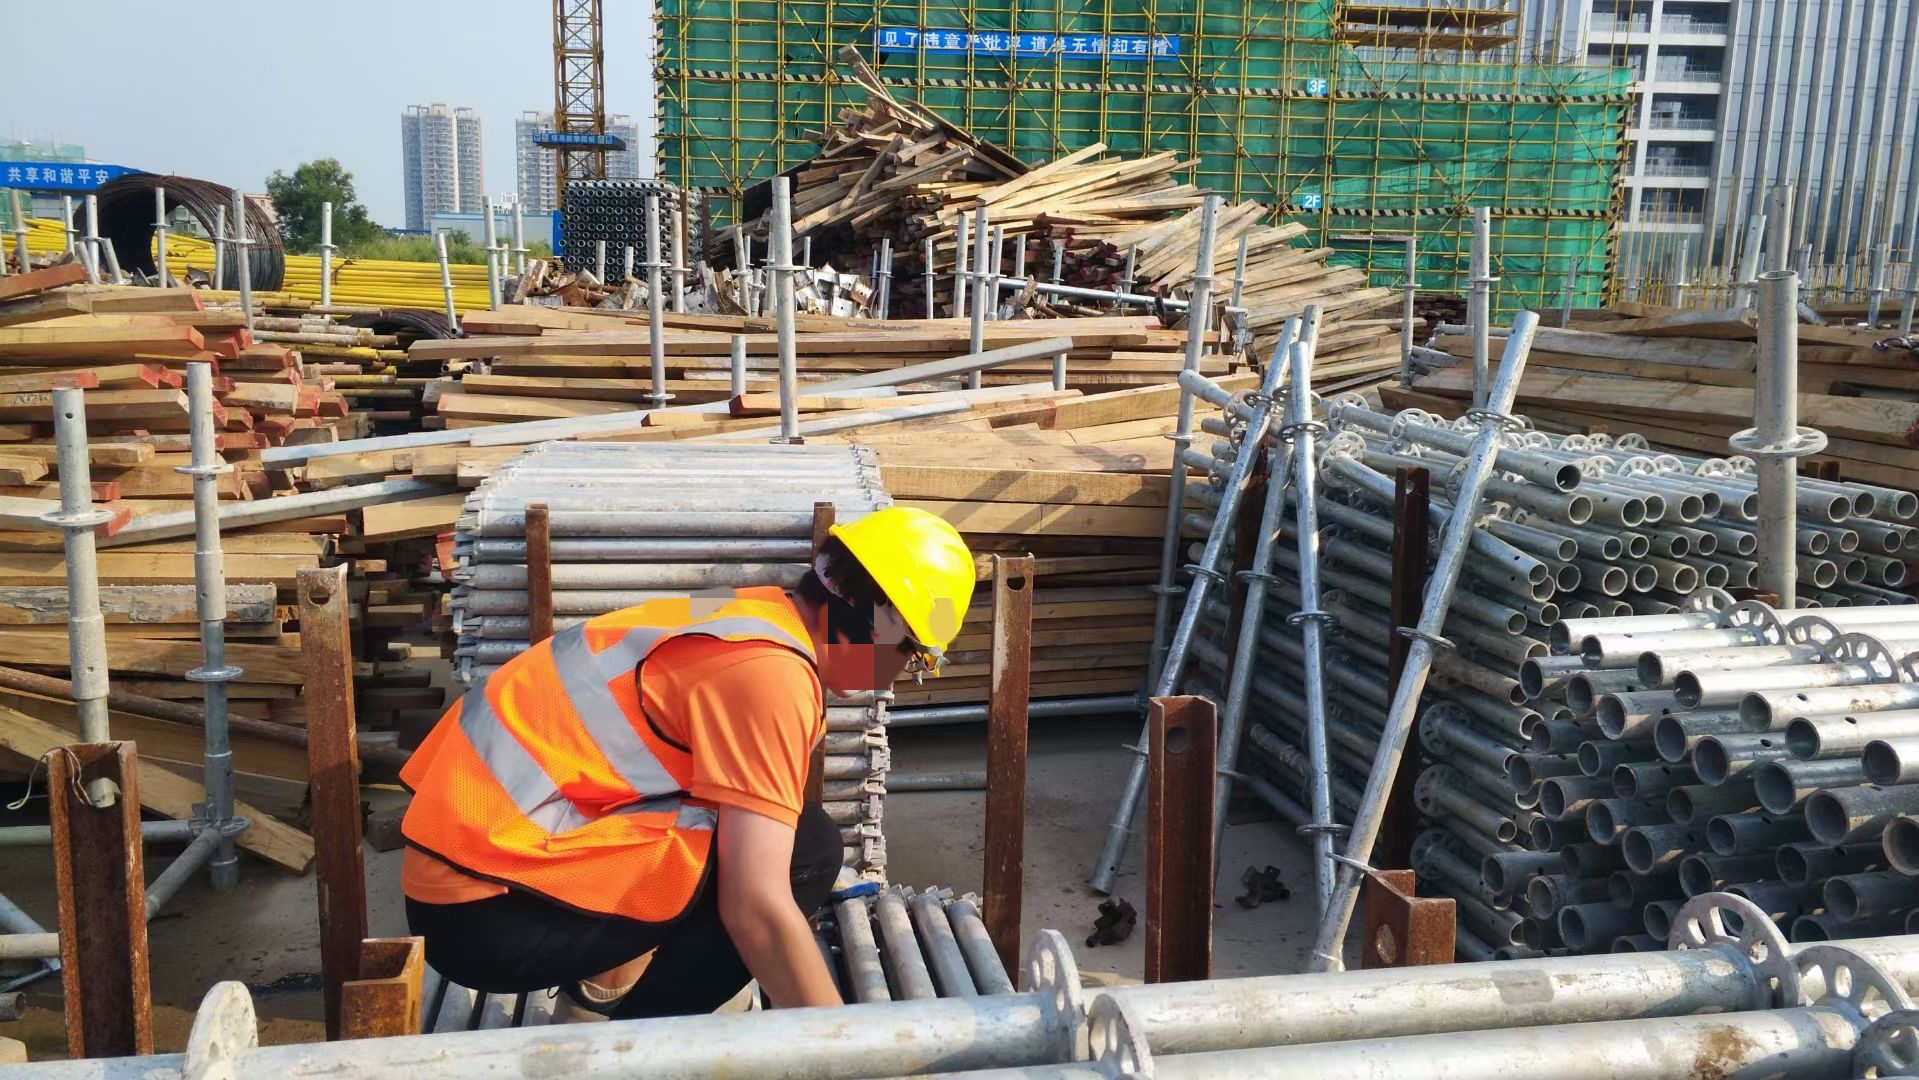helmet: (823, 503, 972, 656)
person: (357, 491, 1004, 1060)
slogan: (878, 31, 1178, 54)
vest: (389, 588, 834, 933)
wood: (415, 293, 1210, 703), (12, 266, 373, 915), (815, 97, 1397, 410)
